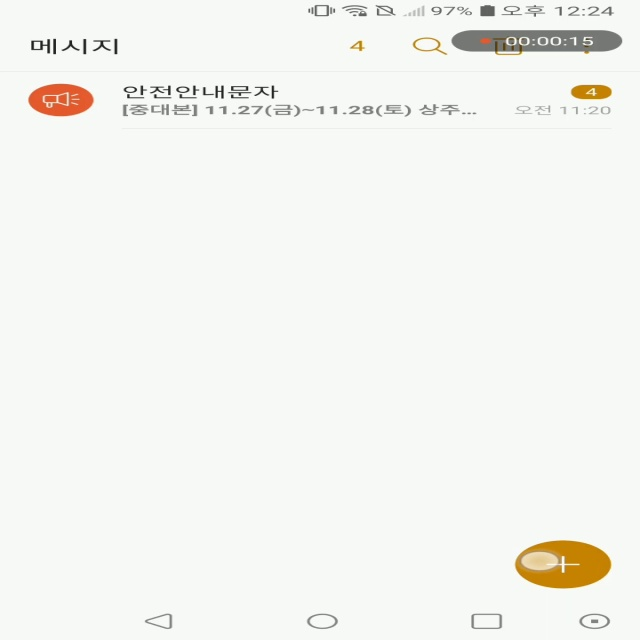Cursor: (518, 551, 562, 573)
